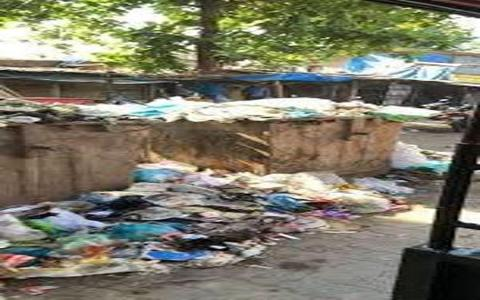overflowing garbage: (160, 103, 397, 247), (1, 106, 146, 274)
